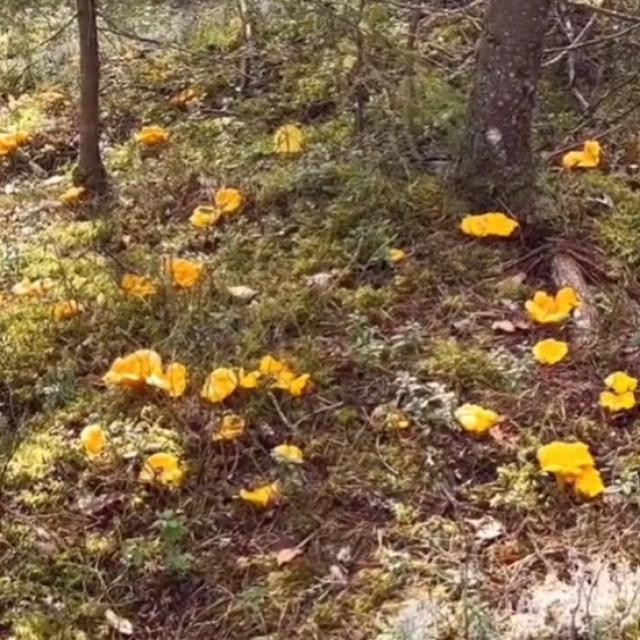chanterelle: (538, 441, 596, 494), (101, 350, 165, 396), (525, 287, 582, 323), (457, 212, 520, 242), (531, 330, 571, 369)
